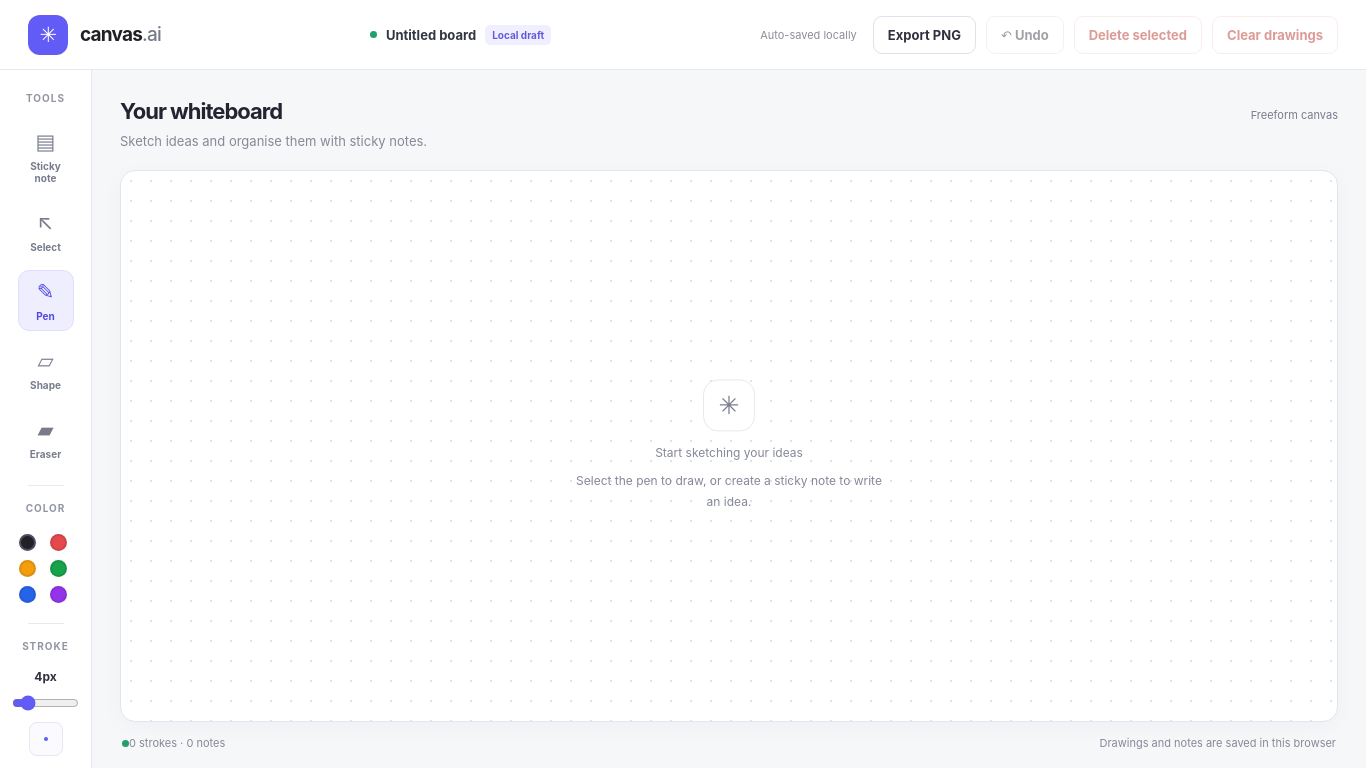
App › creates a sticky note and persists it
The width and height of the screenshot is (1366, 768).
Click the button "▤ Sticky note": (46,156) [18,120,74,193]
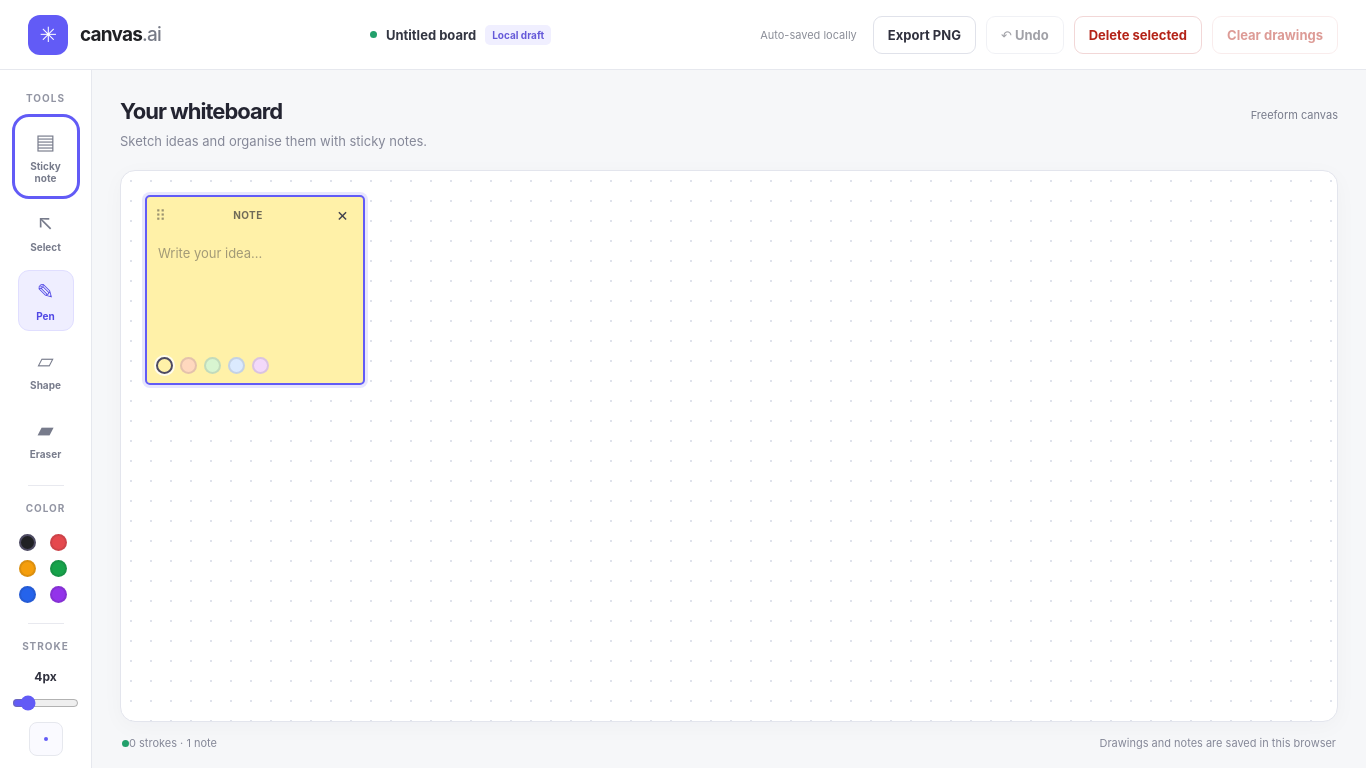
Now the element with class "sticky-note" is shown, box [145,195,365,385]
